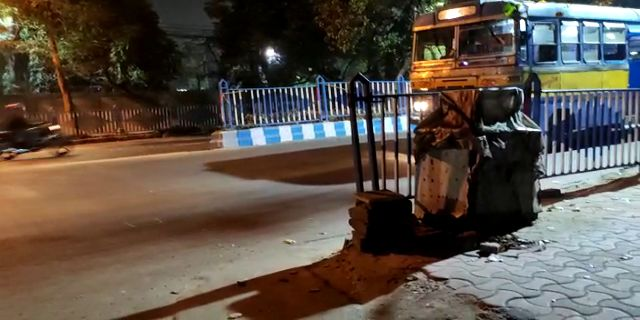Bus: (405, 2, 630, 141)
Motorbike: (1, 106, 73, 161)
